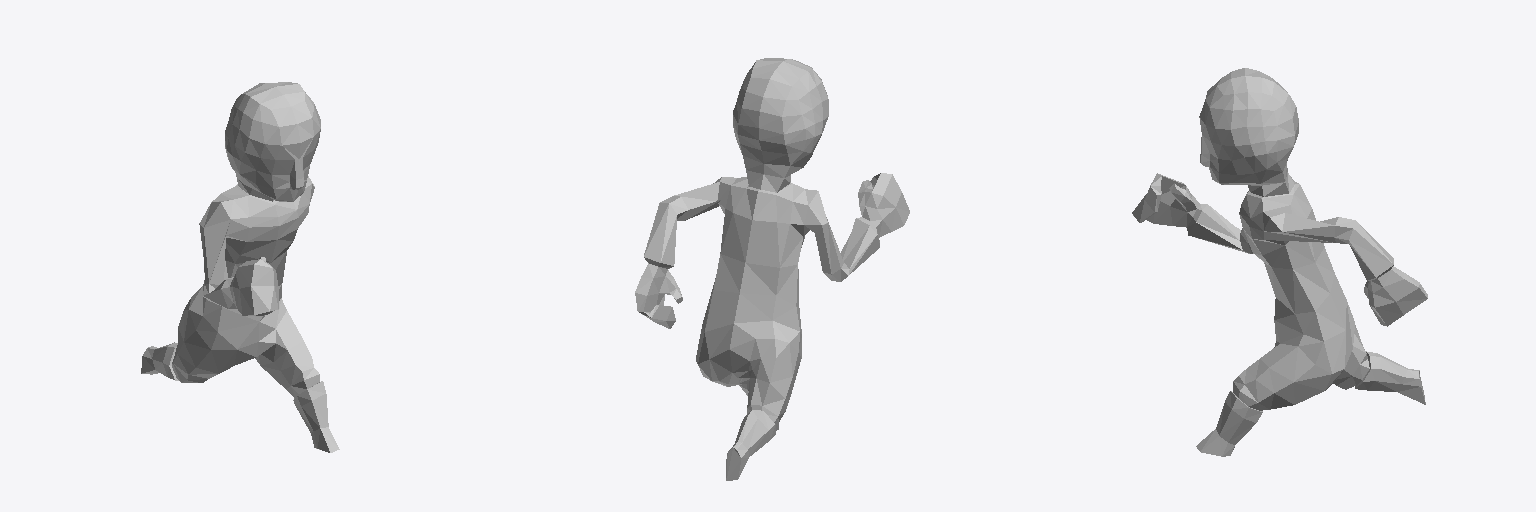
The model's file is KnightCharacter13.obj.
3 views of the same model, side by side, from view 1: azimuth 30°, elevation 25°; view 2: azimuth 150°, elevation 25°; view 3: azimuth 270°, elevation 25° (orthographic).
Visible parts, largest first — view 1: Knight; view 2: Knight; view 3: Knight.
Boxes of the visible parts, box(x1,y1,x2,y2) form: Knight: box(141, 82, 339, 452); Knight: box(635, 58, 909, 480); Knight: box(1132, 68, 1427, 456).
Bounding box in the file's own units: 2.19 × 5.08 × 3.76.